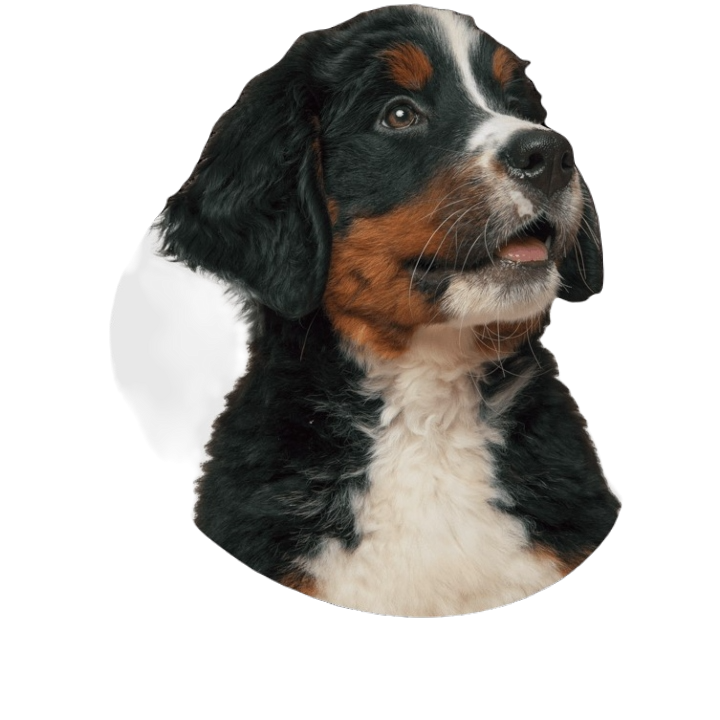Dog: (145, 0, 621, 616)
